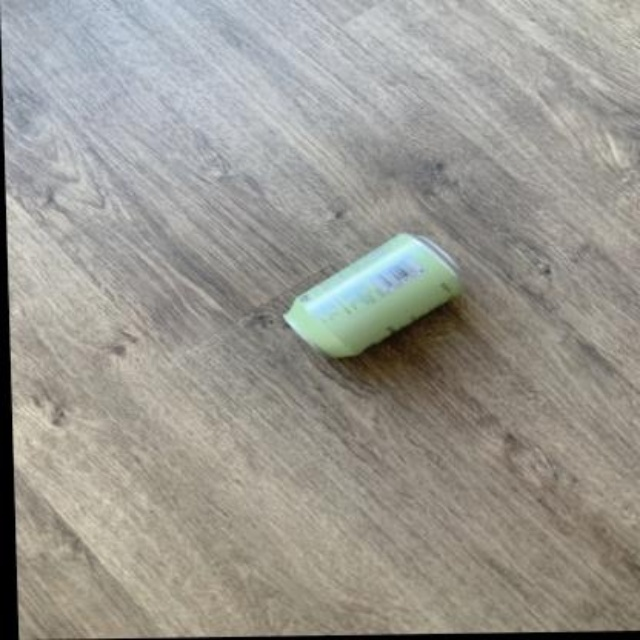trash: (285, 234, 462, 355)
